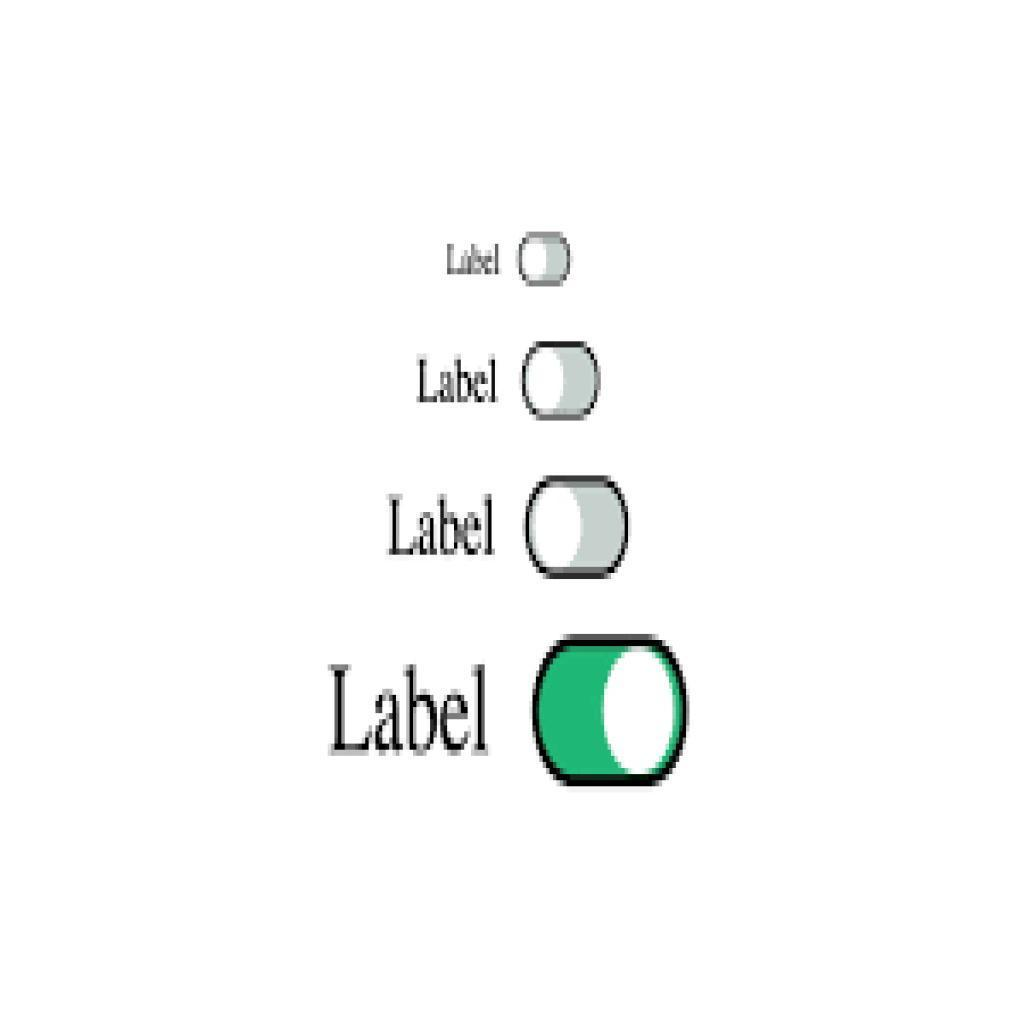switch: (531, 634, 691, 788), (525, 477, 631, 582), (522, 342, 603, 422), (517, 231, 573, 291)
